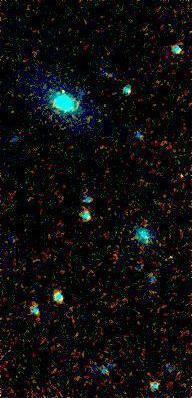star: (48, 78, 78, 108)
